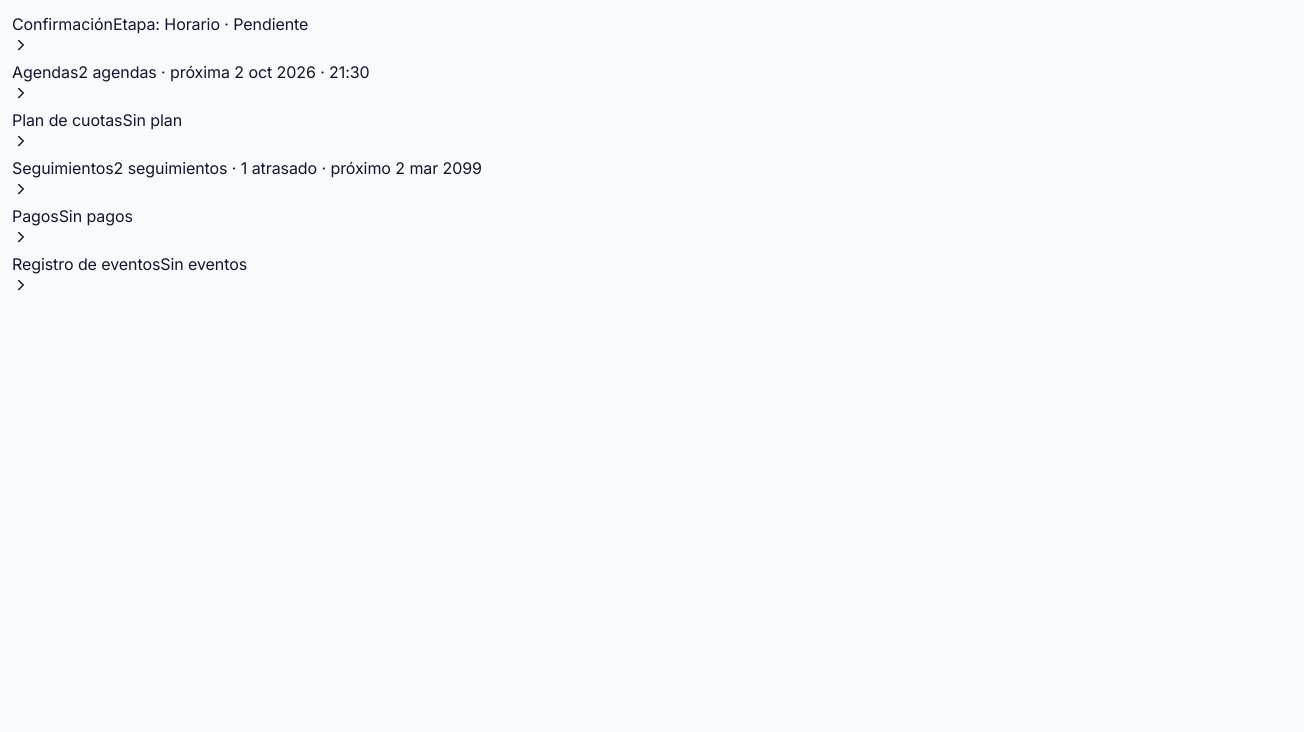
los seguimientos del historial › un pendiente con el día pasado se marca atrasado, también en el resumen
Click the button "Seguimientos2 seguimientos · 1 atrasado · próximo 2 mar 2099": (247, 177) x1=12 y1=156 x2=482 y2=198
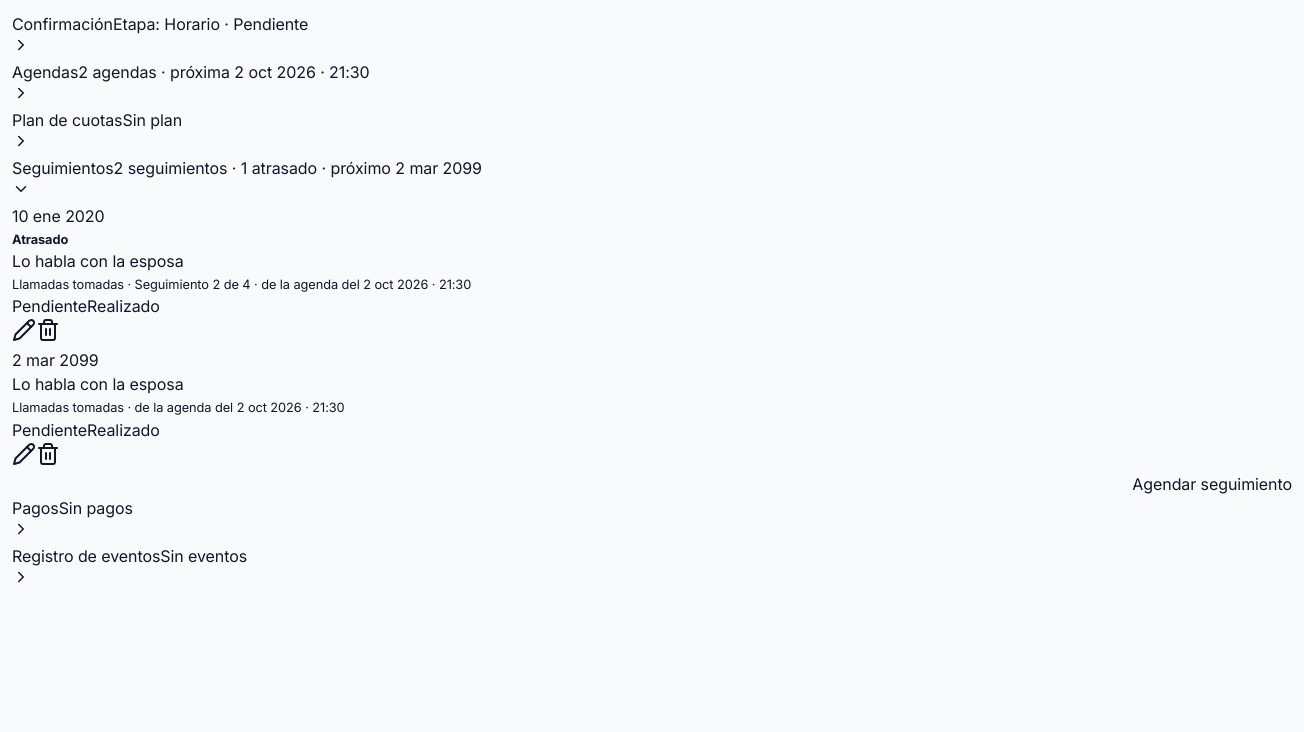
Expected: the text "2 seguimientos · 1 atrasado · próximo 2 mar 2099" is shown, x1=114 y1=158 x2=482 y2=178
Expected: the text "Atrasado" is shown, x1=12 y1=232 x2=68 y2=247
